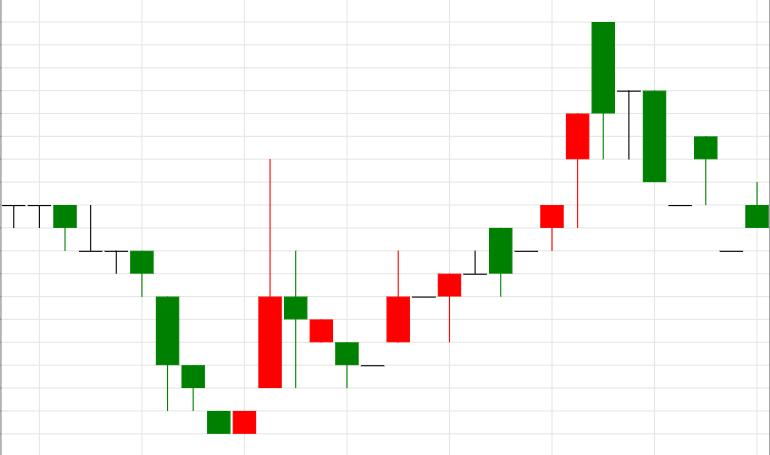bullish_engulfing_rise: (3, 204, 256, 434)
hanging_man_fall: (361, 114, 589, 367)
